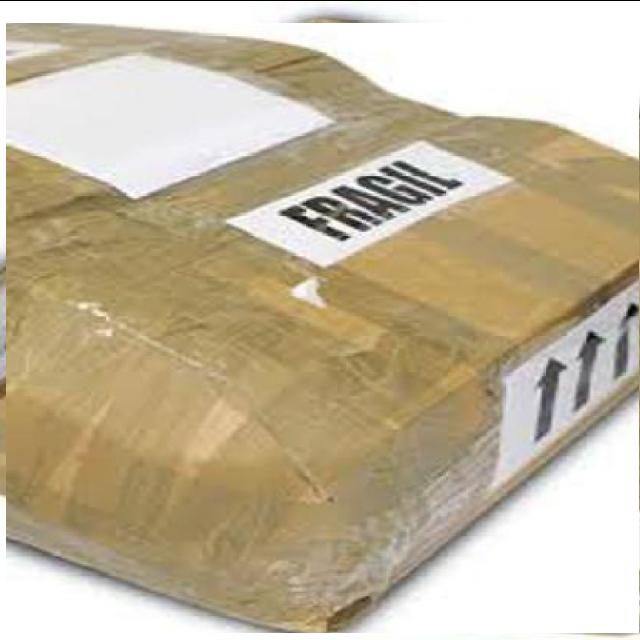defect: (6, 22, 639, 632)
